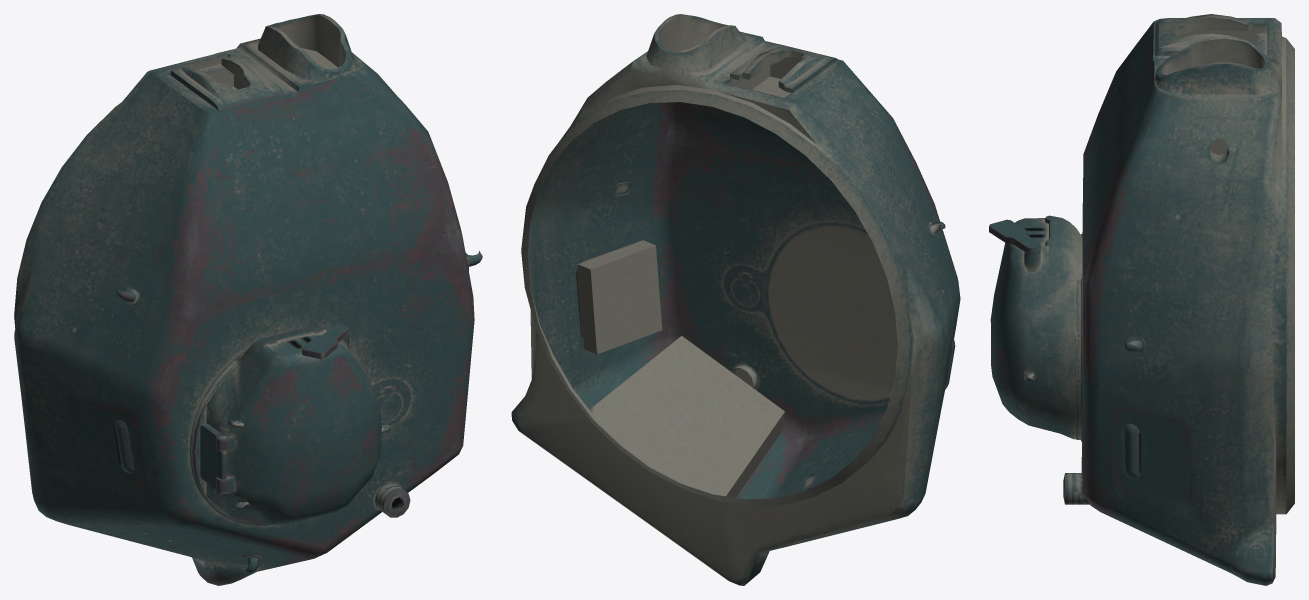
File: Turret_02.glb
3 views of the same model, side by side, from view 1: azimuth 30°, elevation 25°; view 2: azimuth 150°, elevation 25°; view 3: azimuth 270°, elevation 25° (orthographic). The views are drawn at different scales.
Parts seen in each view (by area): view 1: set_0_group_0; view 2: set_0_group_0; view 3: set_0_group_0.
Boxes of the visible parts, x1=… form: set_0_group_0: x1=14, y1=14, x2=482, y2=585; set_0_group_0: x1=511, y1=14, x2=960, y2=585; set_0_group_0: x1=989, y1=14, x2=1294, y2=585.
Size of the model in its own units: 1.46 by 1.75 by 0.8612.
Materials: 1 (1 with a texture image).
